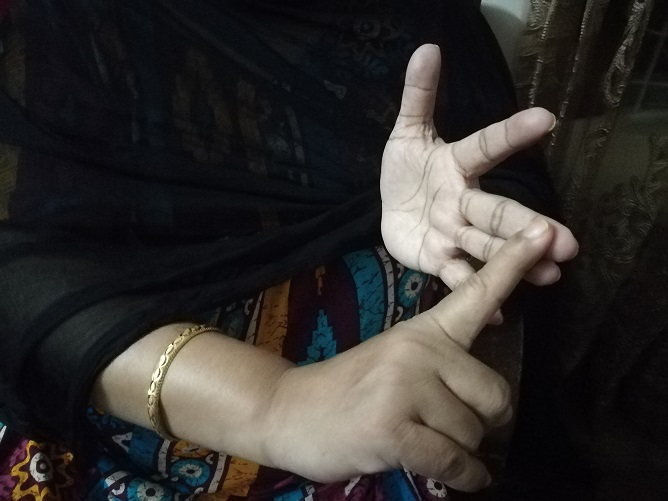u: (383, 42, 567, 484)
